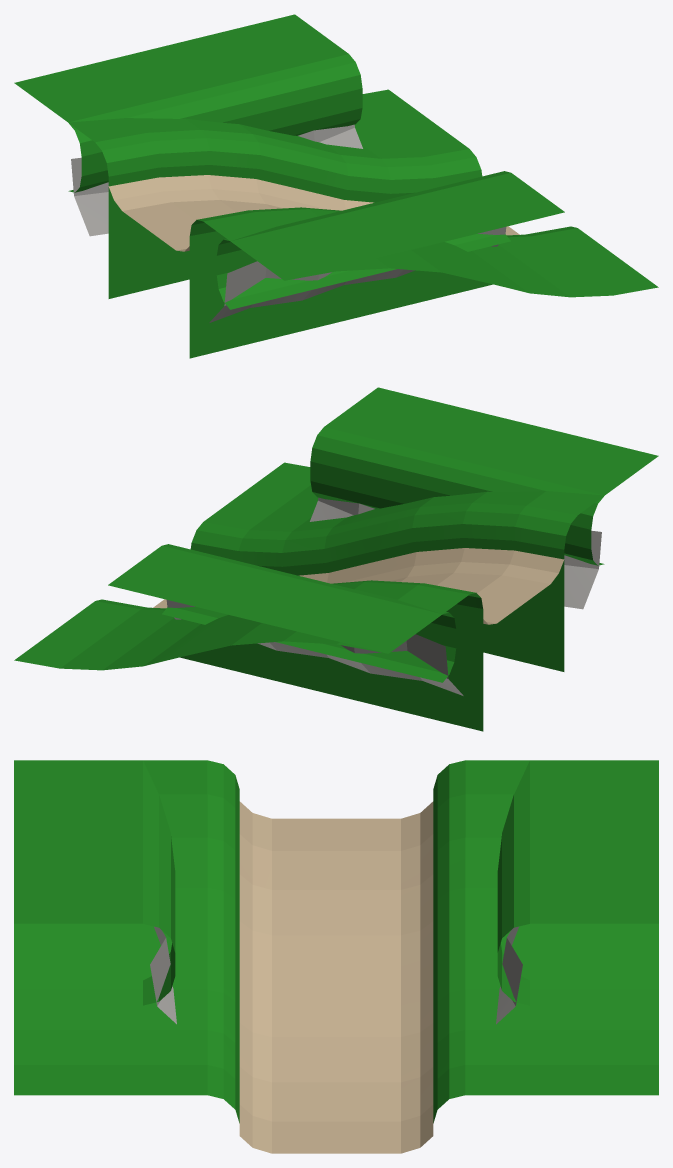
The model's file is Track_Cliff_Incline_Standard_1_Tall_Single.obj.
3 renders of one model, top to bottom at view 1: azimuth 30°, elevation 25°; view 2: azimuth 150°, elevation 25°; view 3: azimuth 270°, elevation 25°, orthographic. The views are drawn at different scales.
Visible parts, largest first — view 1: Grass, Dirt, Rock; view 2: Grass, Dirt, Rock; view 3: Grass, Dirt, Rock.
Boxes of the visible parts, x1,y1,x2,y2 form: Grass: (14,14,658,358); Dirt: (108,175,519,251); Rock: (71,124,506,322); Grass: (14,387,658,731); Dirt: (153,548,564,624); Rock: (166,497,601,695); Grass: (14,760,658,1123); Dirt: (239,801,433,1153); Rock: (150,926,522,1024).
Size of the model in its own units: 4 by 1.5 by 5.
